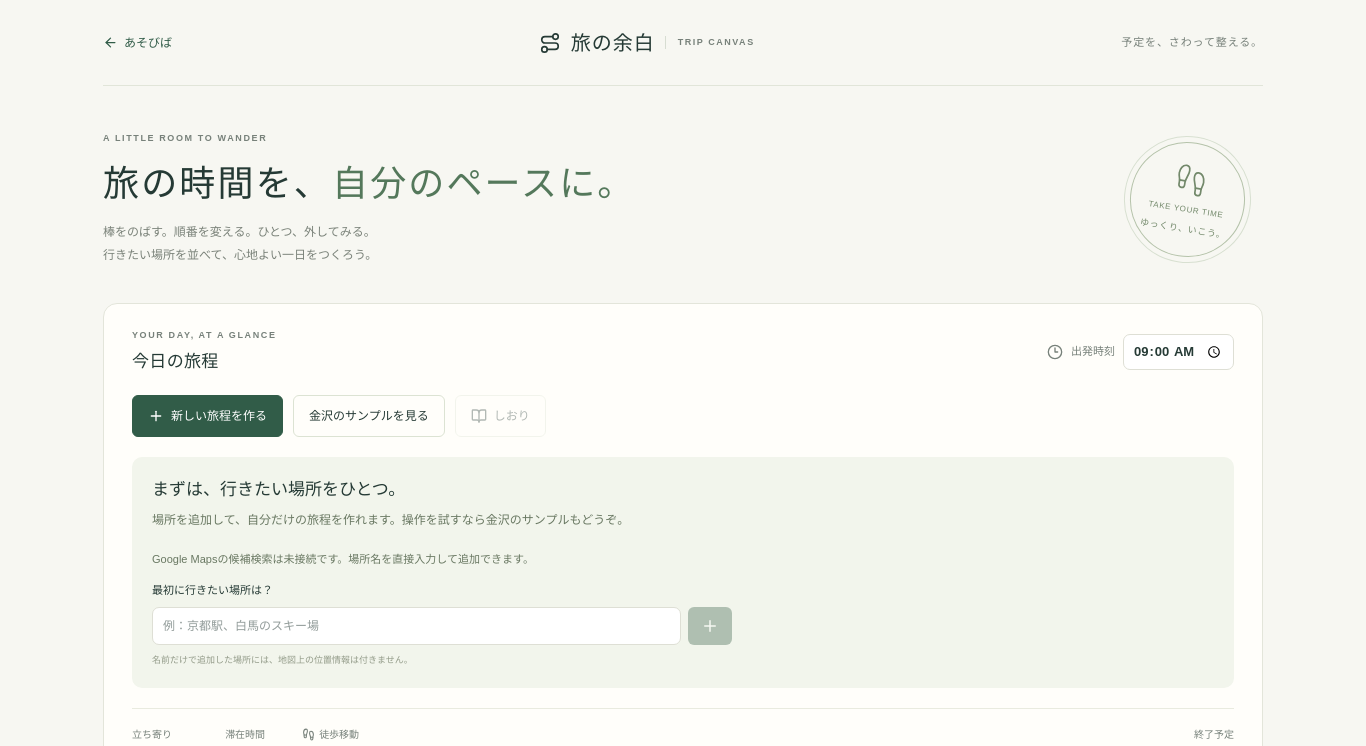
Scenario: 新しい旅の準備 › 座標のある場所は住所を保ってリネームし、選択と旅程の切り替えに編集欄が追従する
Click the button "金沢のサンプルを見る".
click(369, 416)  # box x1=293 y1=395 x2=445 y2=437
(page scrolled)
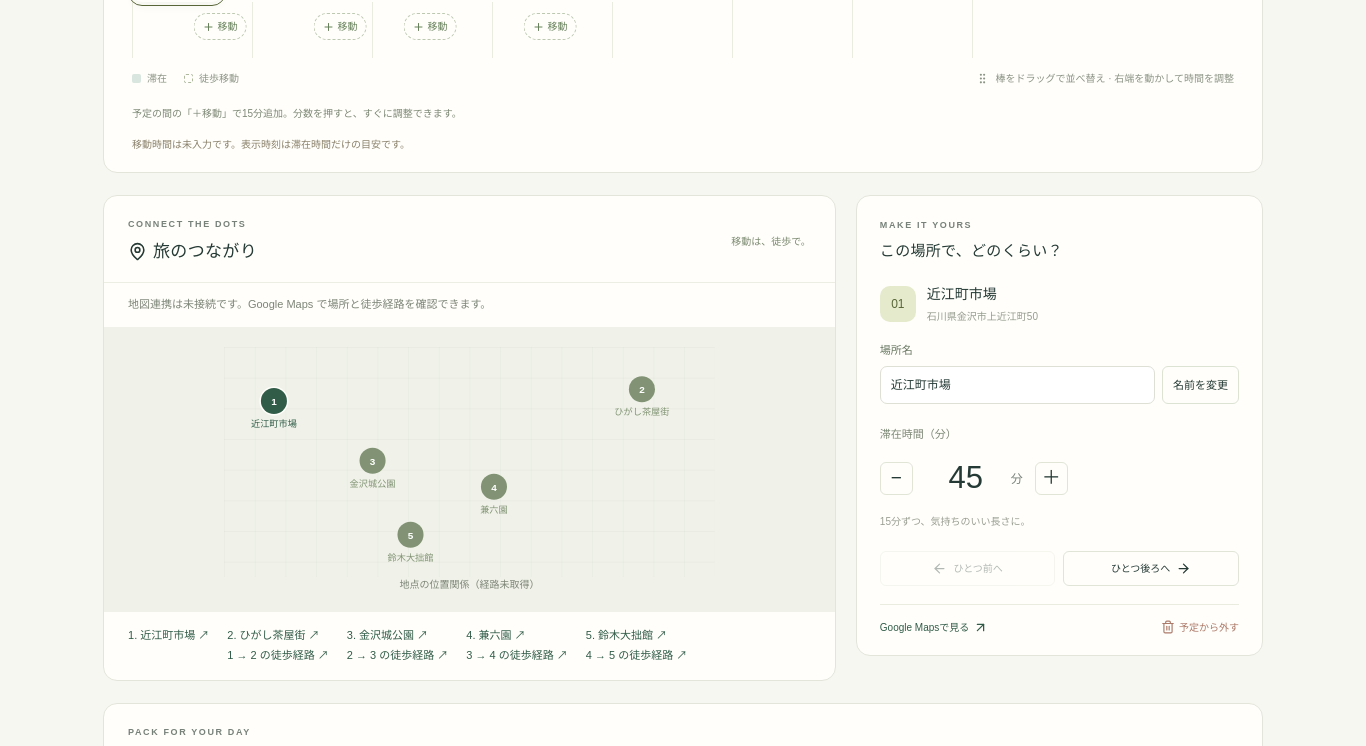
Replace the text in the field labelled "場所名" with "朝ごはん" at point(1017, 385), box x1=880 y1=366 x2=1155 y2=404
Click the button "名前を変更".
click(1200, 385)  # box x1=1162 y1=366 x2=1239 y2=404
(page scrolled)
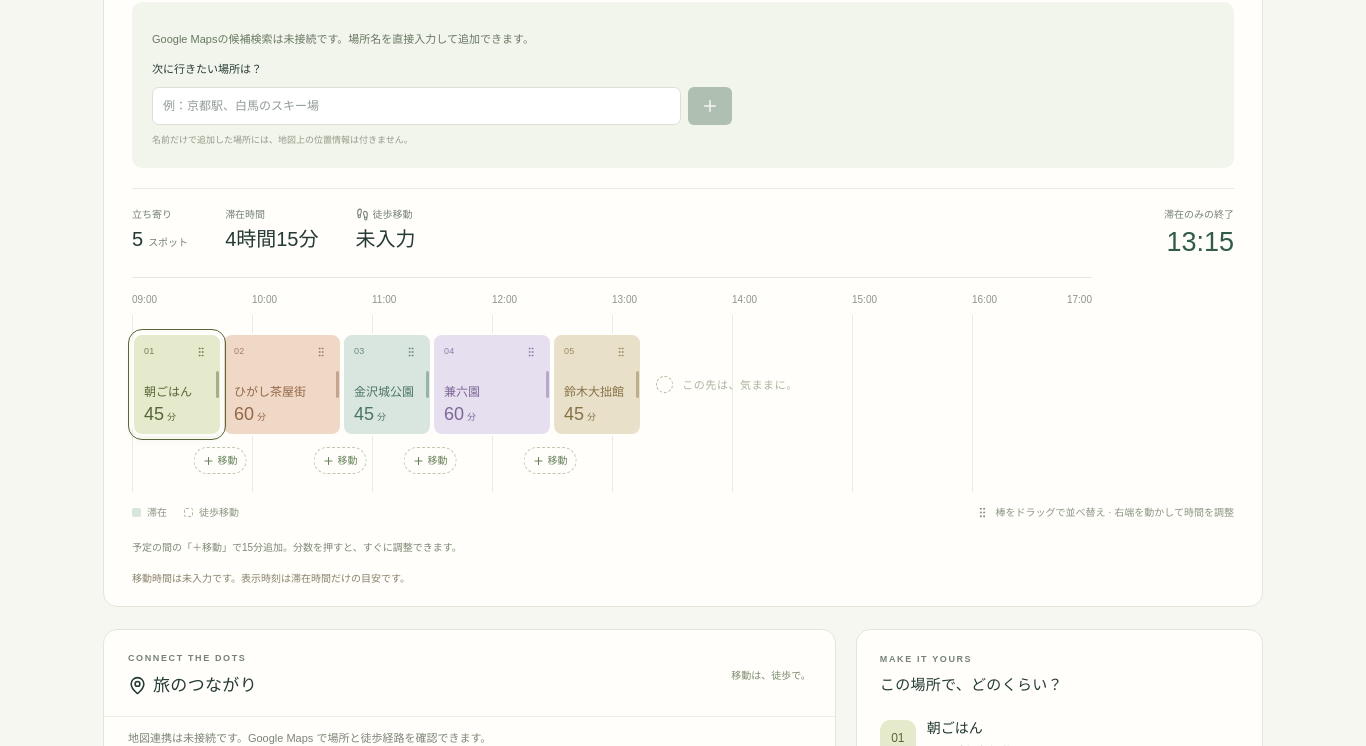
Click the button with aria-label "ひがし茶屋街、滞在60分".
click(282, 385)  # box x1=224 y1=335 x2=340 y2=434
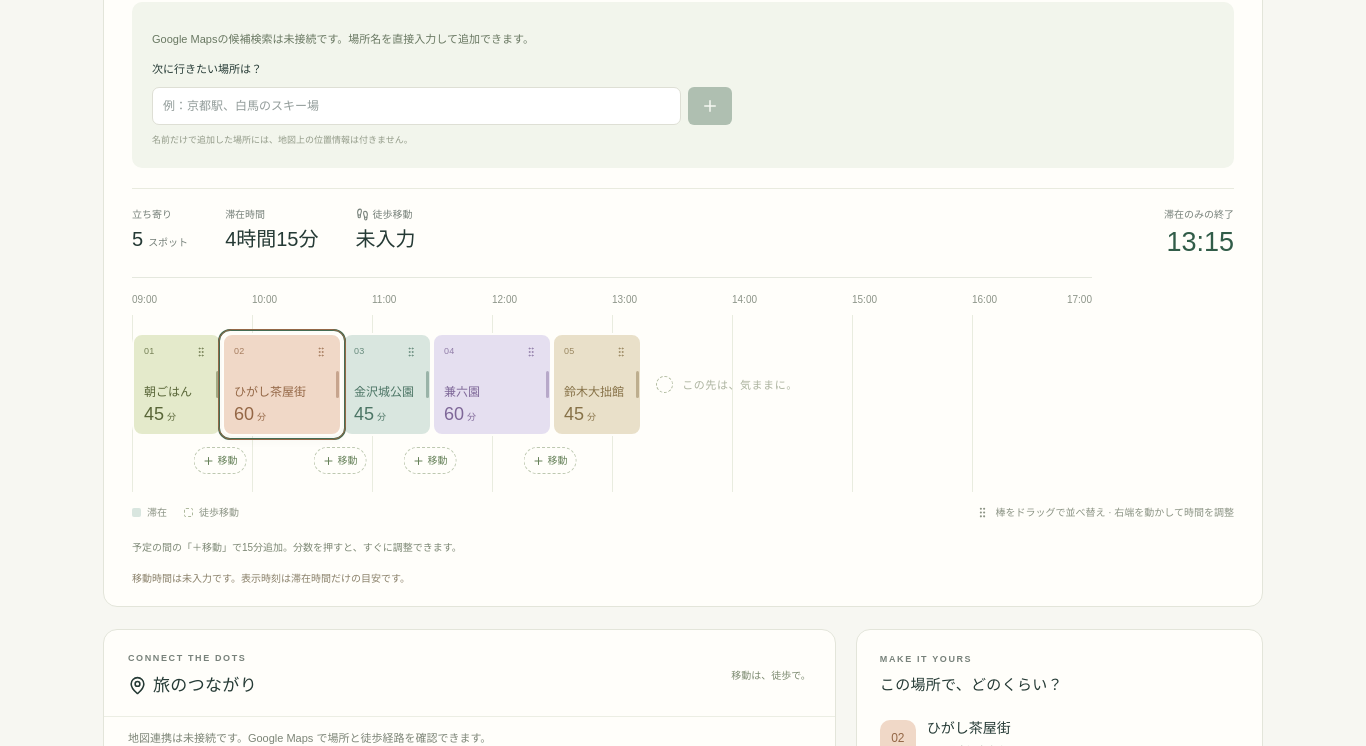
Click the button with aria-label "朝ごはん、滞在45分".
click(177, 385)  # box x1=134 y1=335 x2=220 y2=434
(page scrolled)
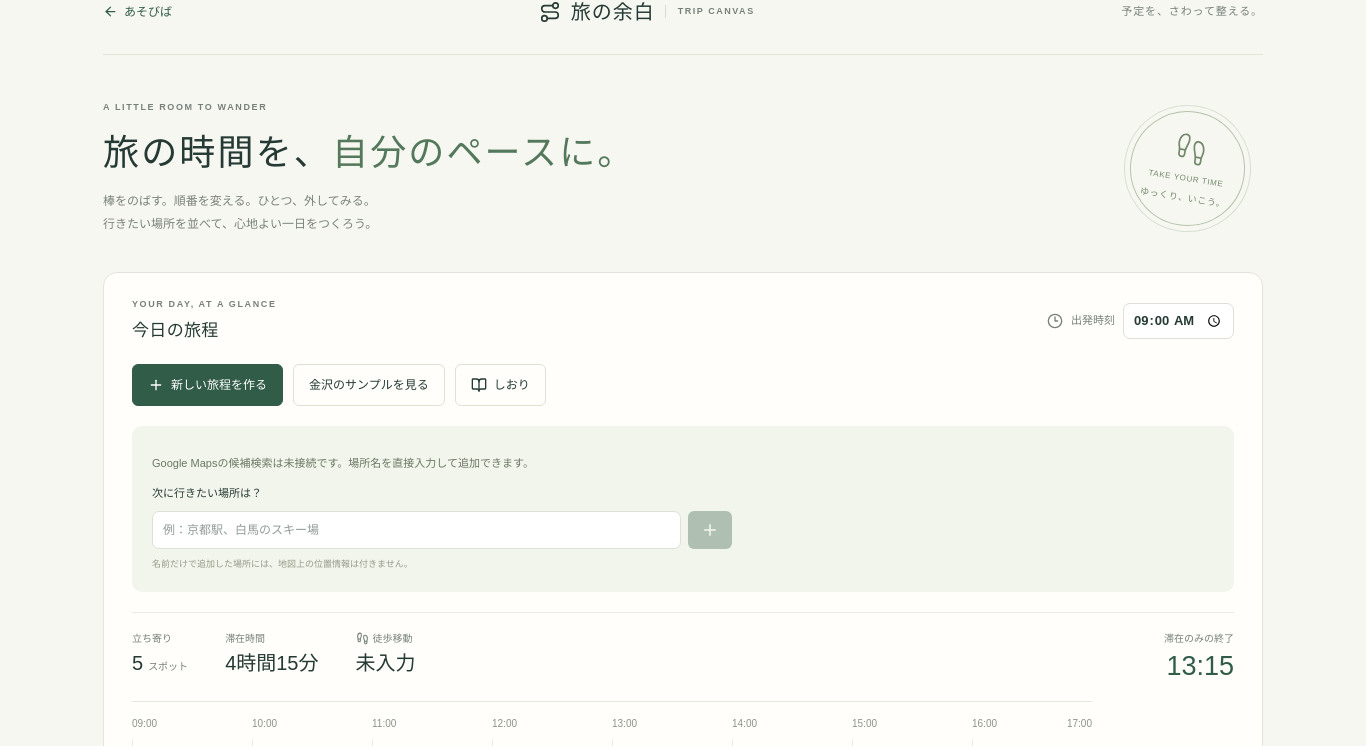
Click the button "金沢のサンプルを見る".
click(369, 385)  # box x1=293 y1=364 x2=445 y2=406
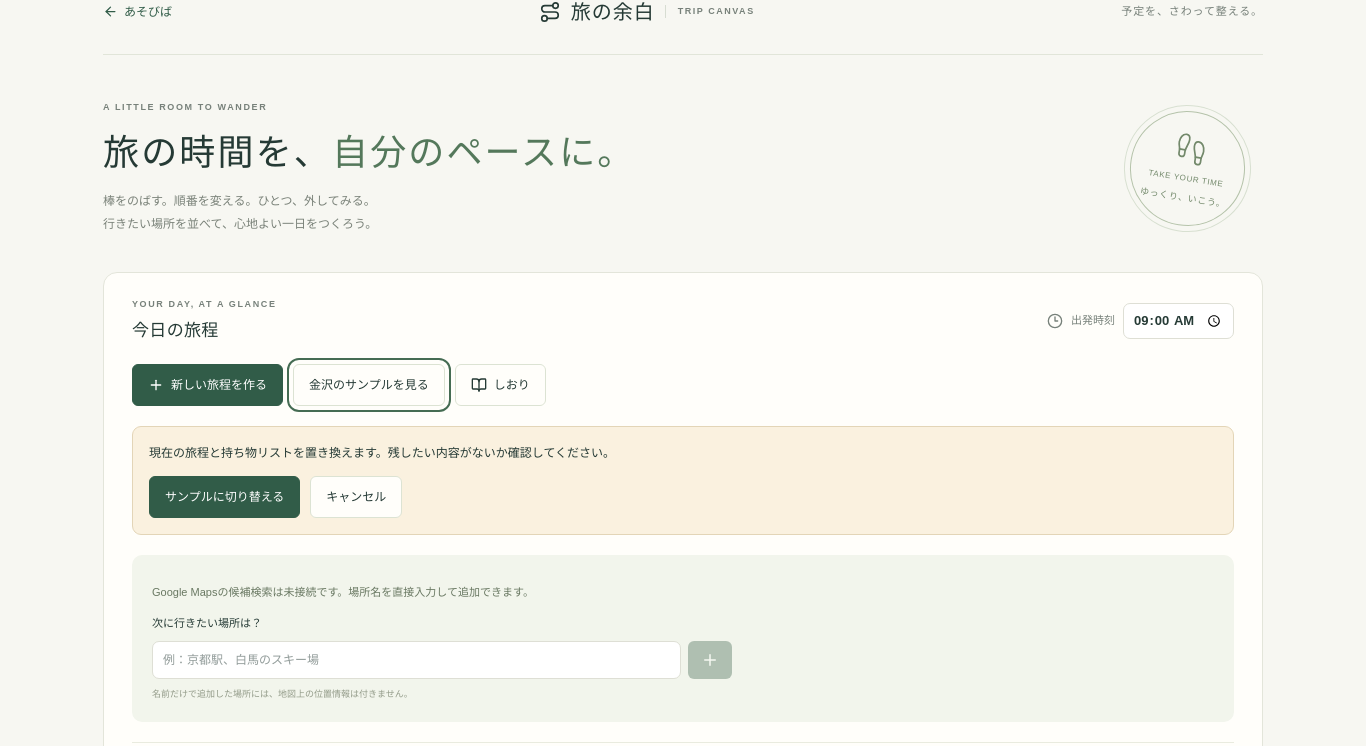
Click the button "サンプルに切り替える".
click(225, 497)  # box x1=149 y1=476 x2=300 y2=518
(page scrolled)
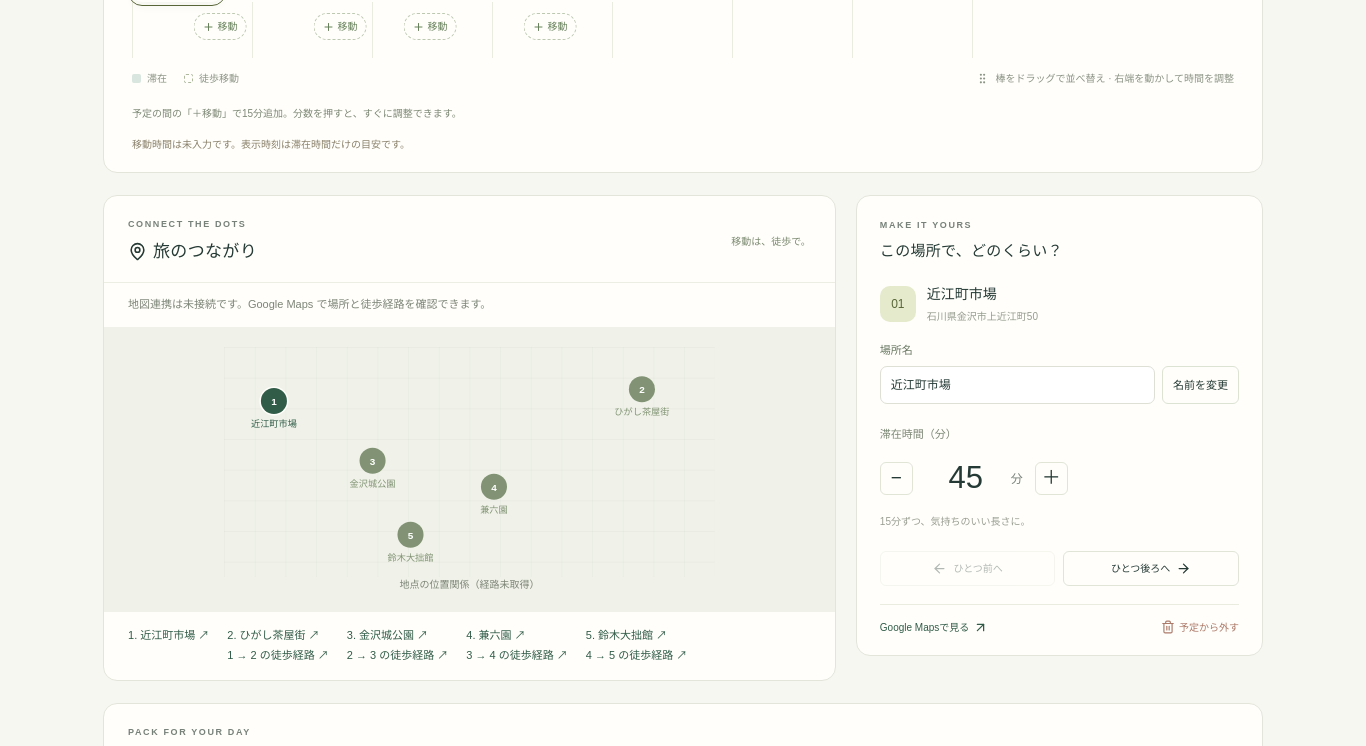
expect the field labelled "場所名" holds "近江町市場": met, box x1=880 y1=366 x2=1155 y2=404
